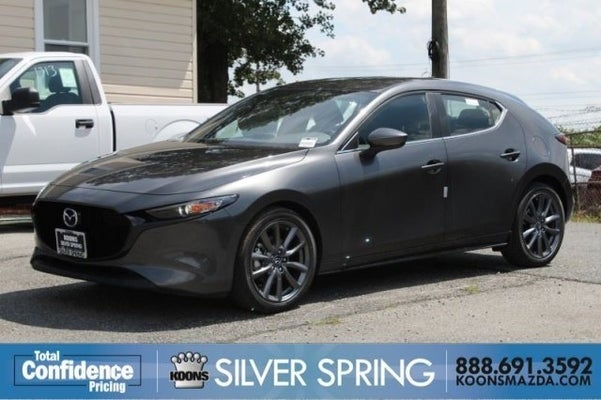Mazda3 Hatchback: (29, 69, 576, 318)
